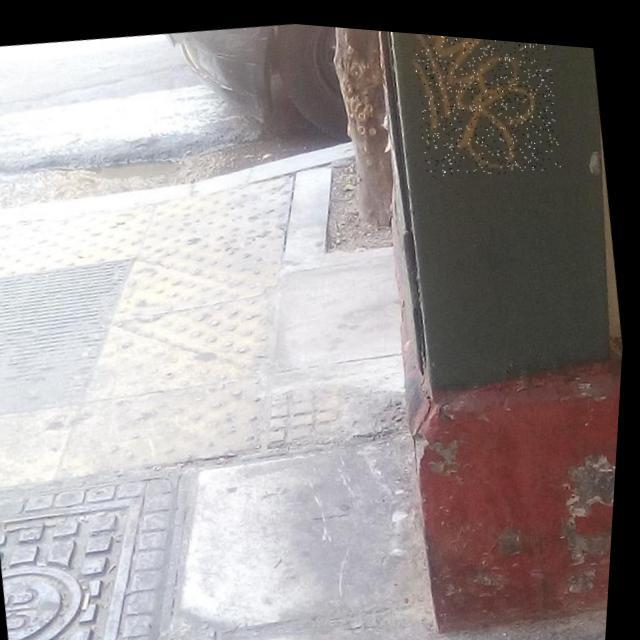-: (402, 26, 568, 180)
